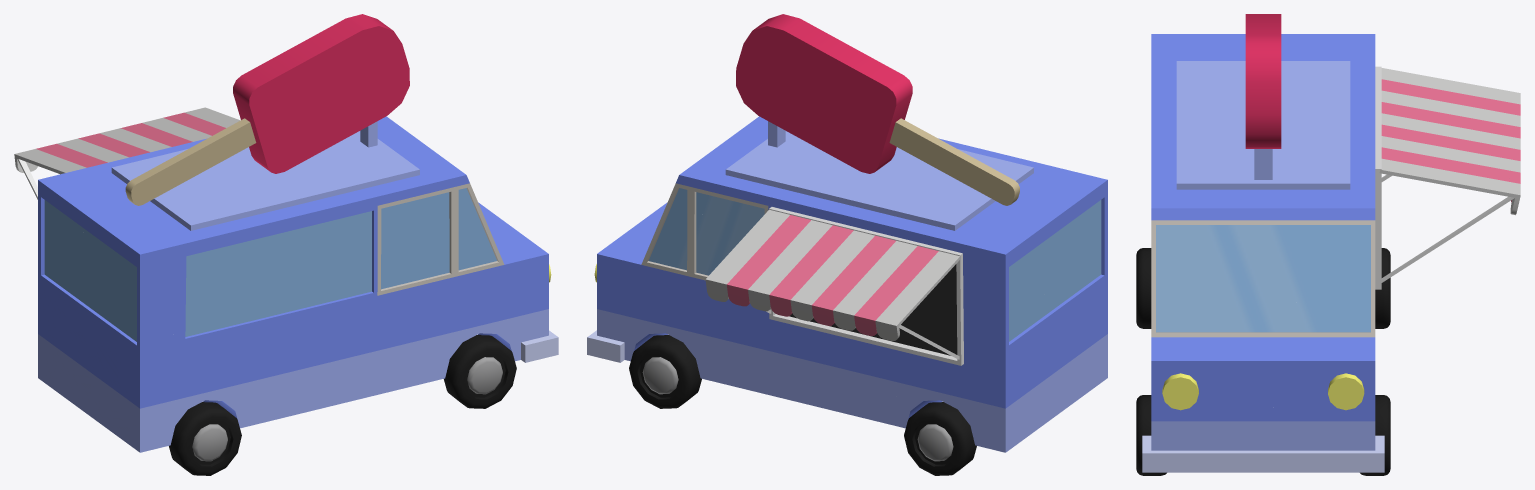
Rendered from icecreamTruck-LowBRD_rootss49.fbx.
3 views of the same model, side by side, from view 1: azimuth 30°, elevation 25°; view 2: azimuth 150°, elevation 25°; view 3: azimuth 270°, elevation 25° (orthographic). The views are drawn at different scales.
Visible parts, largest first — view 1: icecreamTruck_LowBRD_sh_3, icecreamTruck_LowBRD_sh_6, icecreamTruck_LowBRD_sh_13, icecreamTruck_LowBRD_sh_18, icecreamTruck_LowBRD_sh_20, icecreamTruck_LowBRD_sh_39, icecreamTruck_LowBRD_sh_10, icecreamTruck_LowBRD_sh_9, icecreamTruck_LowBRD_sh_15, icecreamTruck_LowBRD_sh_17, icecreamTruck_LowBRD_sh_45, icecreamTruck_LowBRD_sh_28 (+13 smaller); view 2: icecreamTruck_LowBRD_sh_28, icecreamTruck_LowBRD_sh_10, icecreamTruck_LowBRD_sh_2, icecreamTruck_LowBRD_sh_13, icecreamTruck_LowBRD_sh_1, icecreamTruck_LowBRD_sh_15, icecreamTruck_LowBRD_sh_8, icecreamTruck_LowBRD_sh_39, icecreamTruck_LowBRD_sh_5, icecreamTruck_LowBRD_sh_21, icecreamTruck_LowBRD_sh_9, icecreamTruck_LowBRD_sh_19 (+17 smaller); view 3: icecreamTruck_LowBRD_sh_6, icecreamTruck_LowBRD_sh_2, icecreamTruck_LowBRD_sh_5, icecreamTruck_LowBRD_sh_28, icecreamTruck_LowBRD_sh_20, icecreamTruck_LowBRD_sh_7, icecreamTruck_LowBRD_sh_23, icecreamTruck_LowBRD_sh_17, icecreamTruck_LowBRD_sh_8, icecreamTruck_LowBRD_sh_9, icecreamTruck_LowBRD_sh_14, icecreamTruck_LowBRD_sh_29 (+14 smaller).
Part boxes in pixels (box(x1,y1,x2,y2)): icecreamTruck_LowBRD_sh_3: box(154, 211, 370, 403); icecreamTruck_LowBRD_sh_6: box(419, 154, 558, 382); icecreamTruck_LowBRD_sh_13: box(52, 283, 297, 452); icecreamTruck_LowBRD_sh_18: box(94, 206, 345, 348); icecreamTruck_LowBRD_sh_20: box(339, 145, 437, 368); icecreamTruck_LowBRD_sh_39: box(256, 14, 408, 136); icecreamTruck_LowBRD_sh_10: box(38, 162, 126, 295); icecreamTruck_LowBRD_sh_9: box(81, 162, 231, 287); icecreamTruck_LowBRD_sh_15: box(294, 319, 428, 414); icecreamTruck_LowBRD_sh_17: box(208, 163, 365, 214); icecreamTruck_LowBRD_sh_45: box(225, 76, 312, 173); icecreamTruck_LowBRD_sh_28: box(34, 114, 203, 168); icecreamTruck_LowBRD_sh_28: box(734, 224, 932, 337); icecreamTruck_LowBRD_sh_10: box(933, 219, 1048, 354); icecreamTruck_LowBRD_sh_2: box(597, 209, 741, 322); icecreamTruck_LowBRD_sh_13: box(918, 273, 1107, 436); icecreamTruck_LowBRD_sh_1: box(885, 337, 1027, 452); icecreamTruck_LowBRD_sh_15: box(777, 333, 921, 423); icecreamTruck_LowBRD_sh_8: box(715, 159, 904, 341); icecreamTruck_LowBRD_sh_39: box(739, 14, 891, 109); icecreamTruck_LowBRD_sh_5: box(684, 121, 836, 223); icecreamTruck_LowBRD_sh_21: box(613, 320, 790, 400); icecreamTruck_LowBRD_sh_9: box(886, 173, 1069, 296); icecreamTruck_LowBRD_sh_19: box(826, 187, 948, 342); icecreamTruck_LowBRD_sh_6: box(1142, 186, 1280, 472); icecreamTruck_LowBRD_sh_2: box(1273, 270, 1375, 424); icecreamTruck_LowBRD_sh_5: box(1211, 140, 1375, 241); icecreamTruck_LowBRD_sh_28: box(1381, 82, 1520, 180); icecreamTruck_LowBRD_sh_20: box(1151, 148, 1291, 339); icecreamTruck_LowBRD_sh_7: box(1178, 407, 1339, 472); icecreamTruck_LowBRD_sh_23: box(1283, 205, 1375, 304); icecreamTruck_LowBRD_sh_17: box(1151, 78, 1293, 154); icecreamTruck_LowBRD_sh_8: box(1243, 114, 1381, 289); icecreamTruck_LowBRD_sh_9: box(1203, 34, 1339, 111); icecreamTruck_LowBRD_sh_14: box(1325, 365, 1384, 472); icecreamTruck_LowBRD_sh_29: box(1379, 138, 1513, 192).
Bounding box in the file's own units: 470 × 392 × 343.
2 materials, 1 textured.
